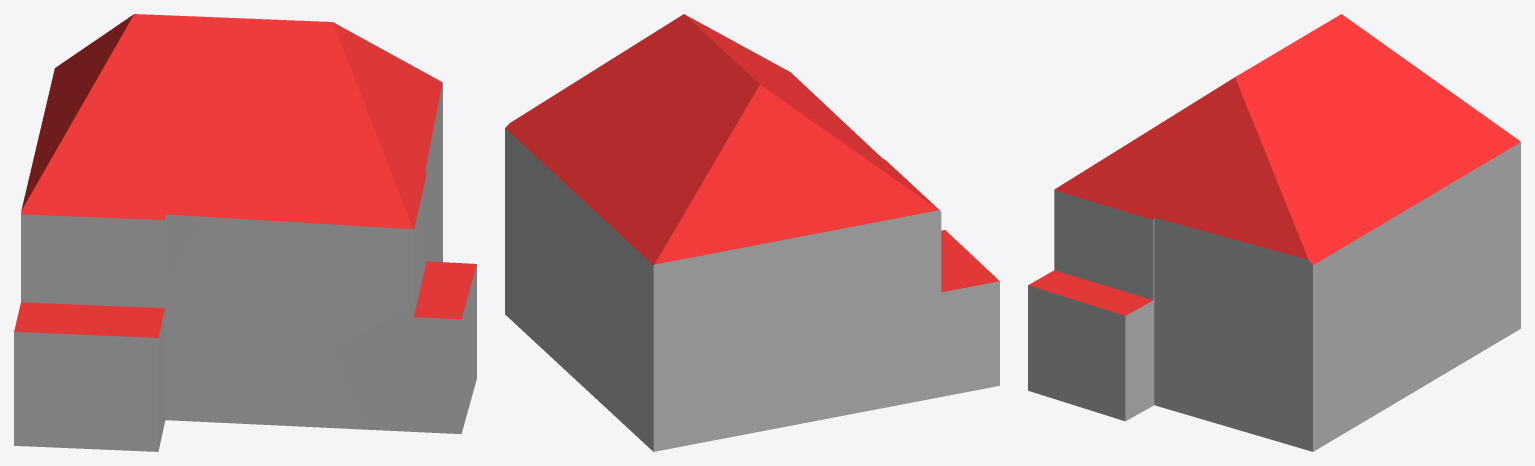
The model's file is DEBY_LOD2_4730727.dae.
3 views of the same model, side by side, from view 1: azimuth 30°, elevation 25°; view 2: azimuth 150°, elevation 25°; view 3: azimuth 270°, elevation 25° (orthographic). The views are drawn at different scales.
Bounding box in the file's own units: 18.71 × 17.95 × 12.32.
